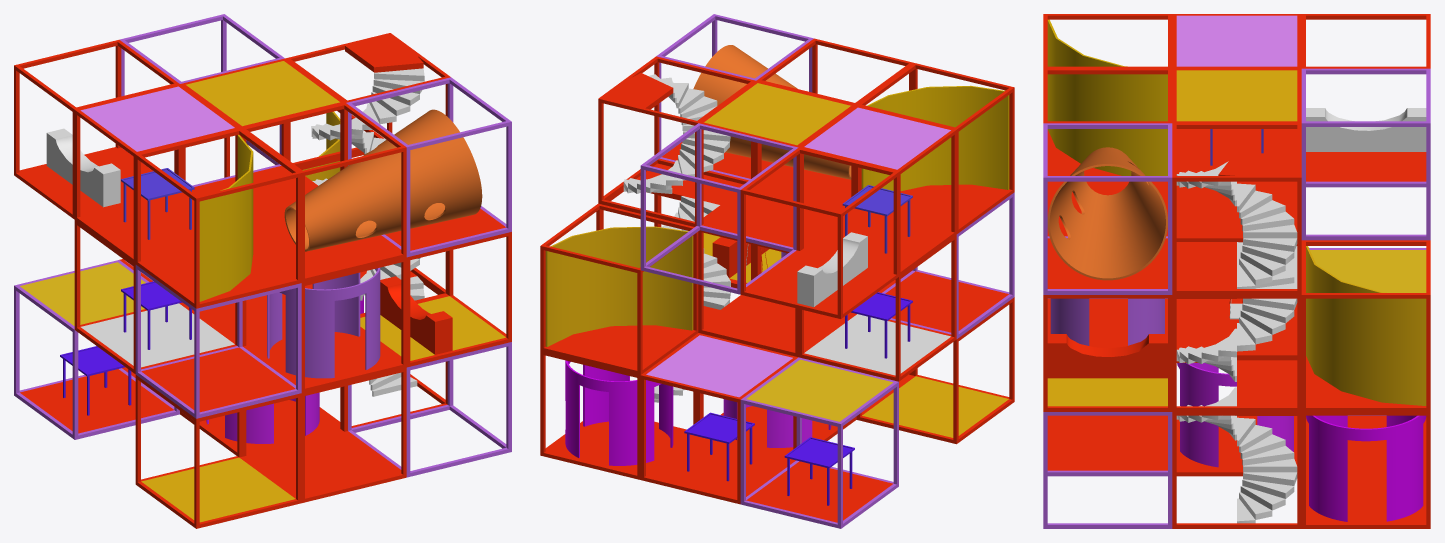
The picture shows the model from 3 angles, left to right: view 1: azimuth 30°, elevation 25°; view 2: azimuth 150°, elevation 25°; view 3: azimuth 270°, elevation 25°; orthographic projection. The views are drawn at different scales.
Parts seen in each view (by area): view 1: Empty; view 2: Empty; view 3: Empty.
Boxes of the visible parts, left/top/right/bottom form: Empty: left=14, top=14, right=511, bottom=528; Empty: left=540, top=14, right=1014, bottom=528; Empty: left=1043, top=14, right=1430, bottom=528.
Size of the model in its own units: 0.8333 by 0.8333 by 0.8333.
